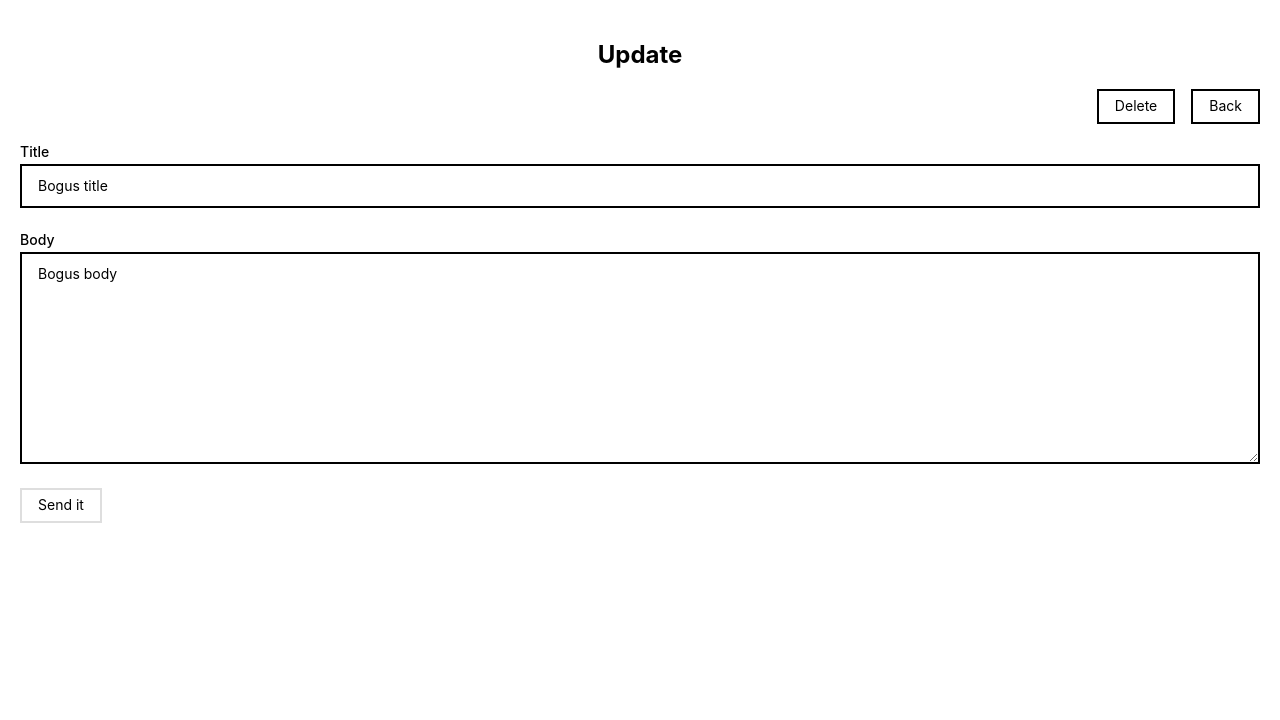
promise resolved › should render the success notification after form submission
The image size is (1280, 720).
Replace the text in the field labelled "Title" with "Fake title" at (640, 186), box [20,164,1260,208]
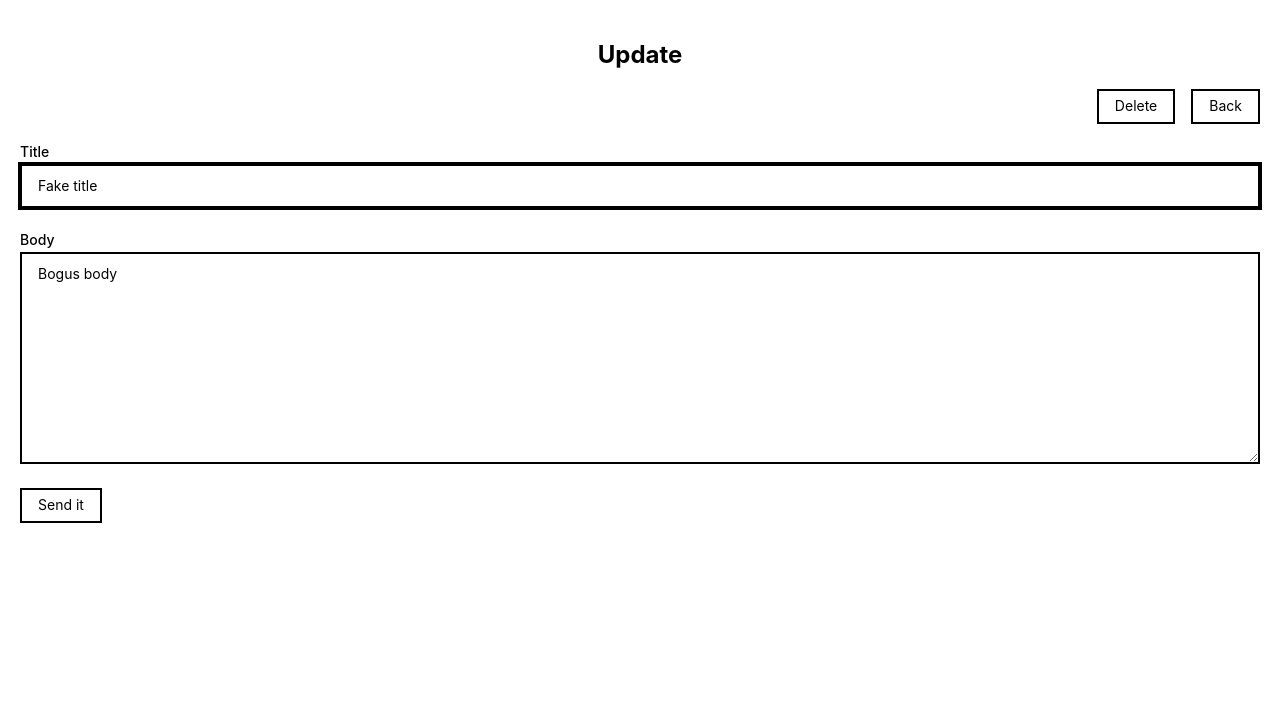
Replace the text in the text box labelled "Body" with "Fake body" at (640, 358), box [20,252,1260,464]
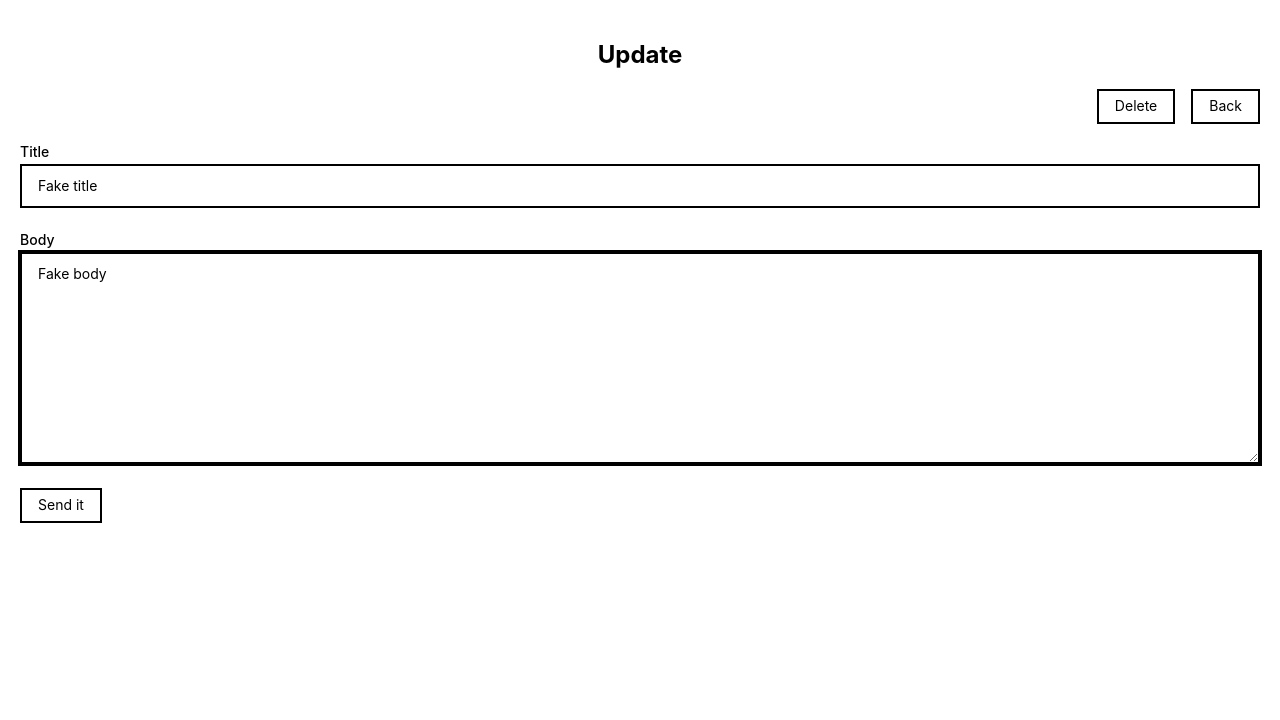
Click the button "Send it" at (61, 505), box [20,488,102,523]
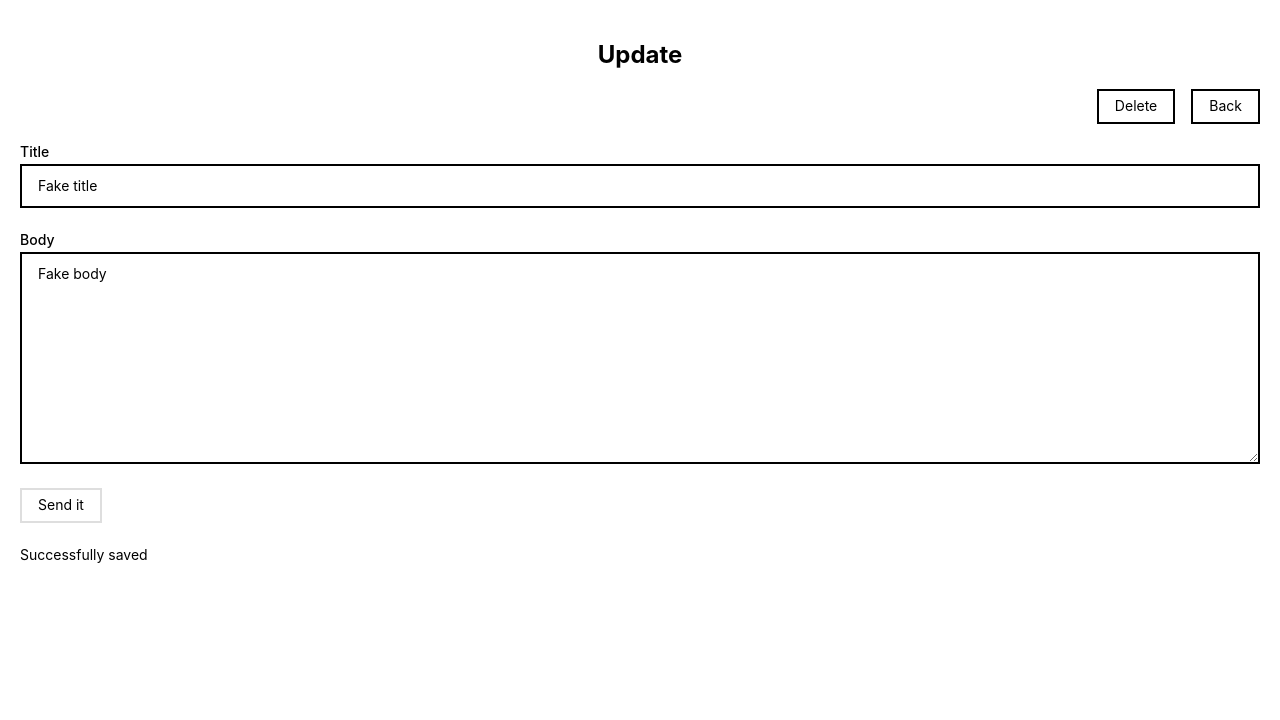
expect the text "Successfully saved" is shown: met, box [20,546,148,563]
